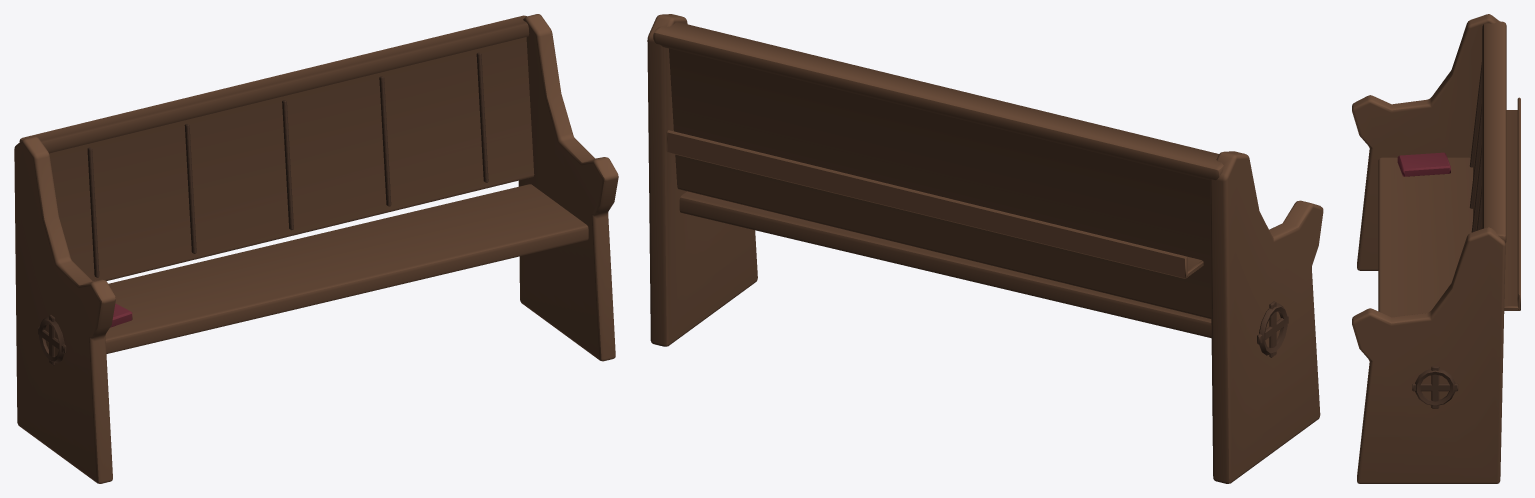
The model's file is pew_salvaged.glb.
3 views of the same model, side by side, from view 1: azimuth 30°, elevation 25°; view 2: azimuth 150°, elevation 25°; view 3: azimuth 270°, elevation 25° (orthographic). The views are drawn at different scales.
Parts seen in each view (by area): view 1: pew_salvaged; view 2: pew_salvaged; view 3: pew_salvaged.
Part boxes in pixels (x1,y1,x2,y2): pew_salvaged: [14, 14, 618, 483]; pew_salvaged: [647, 14, 1323, 483]; pew_salvaged: [1352, 14, 1520, 483].
Bounding box in the file's own units: 1.95 × 1.03 × 0.6228.
